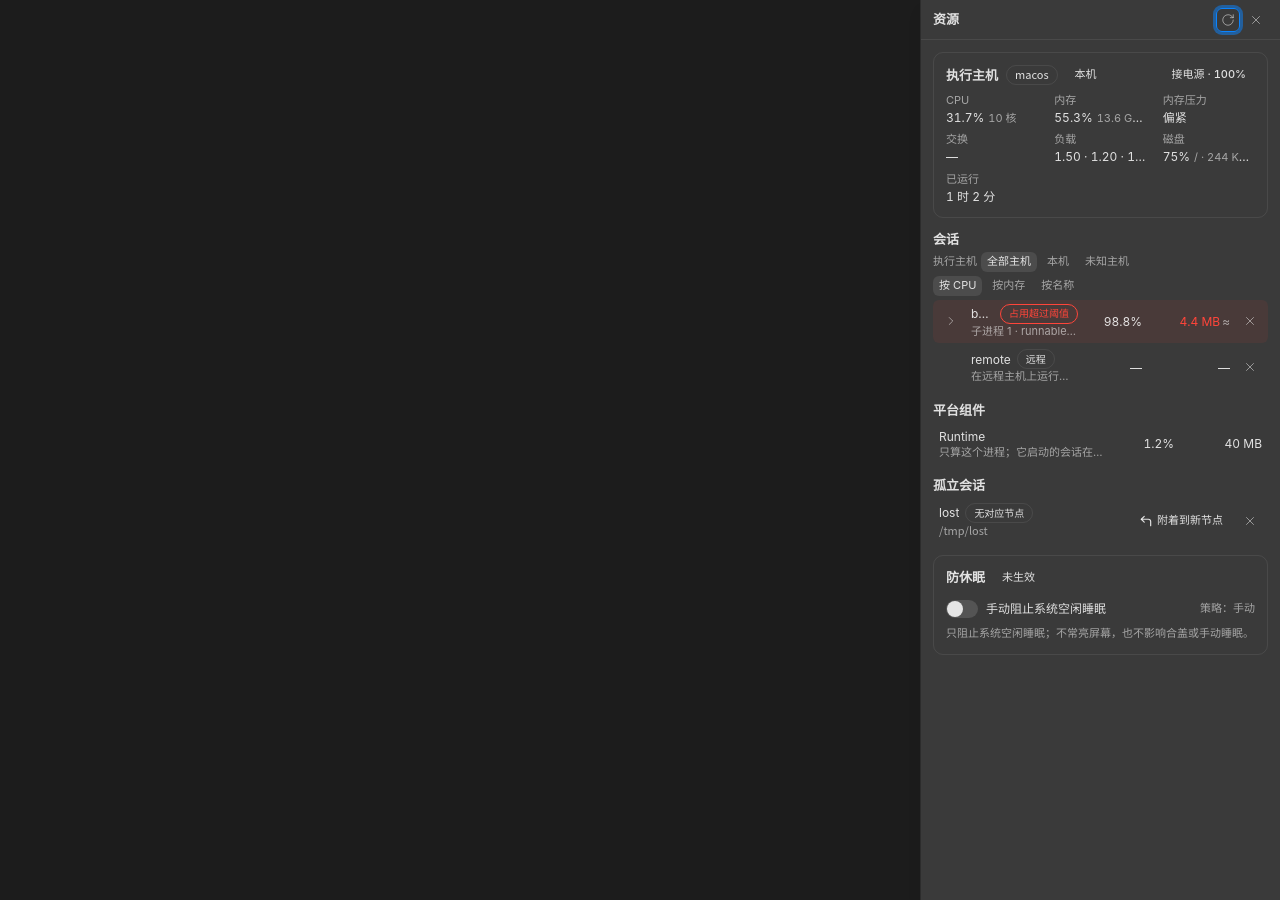
Scenario: ResourceDrawer › 终止孤立会话要先确认
What coordinates should you click on to do the following:
click the button named "终止"
I would click on:
 (1250, 521)
Its box is [1238,509,1262,533].
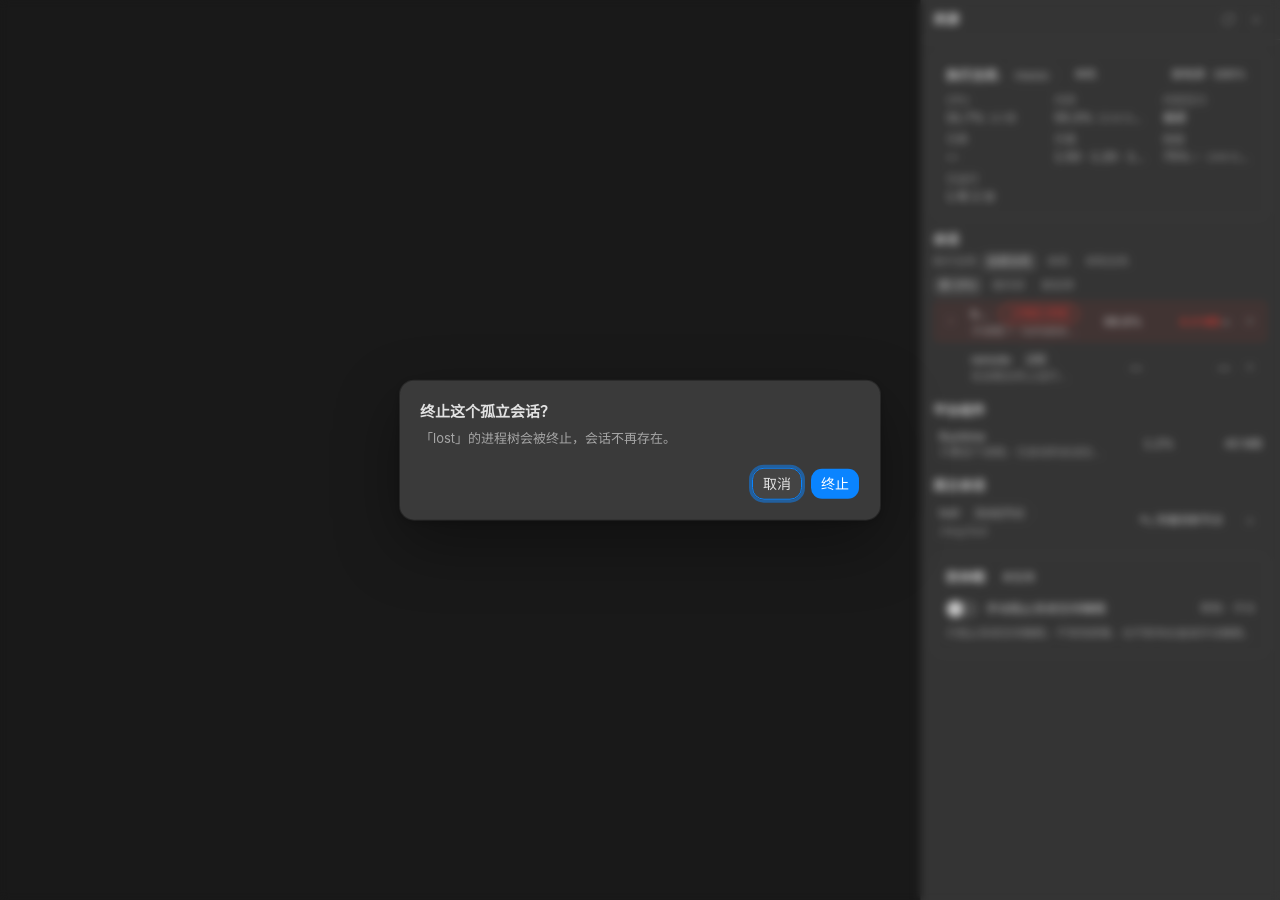
Now the heading "终止这个孤立会话？" is shown, box [420,401,555,422]
